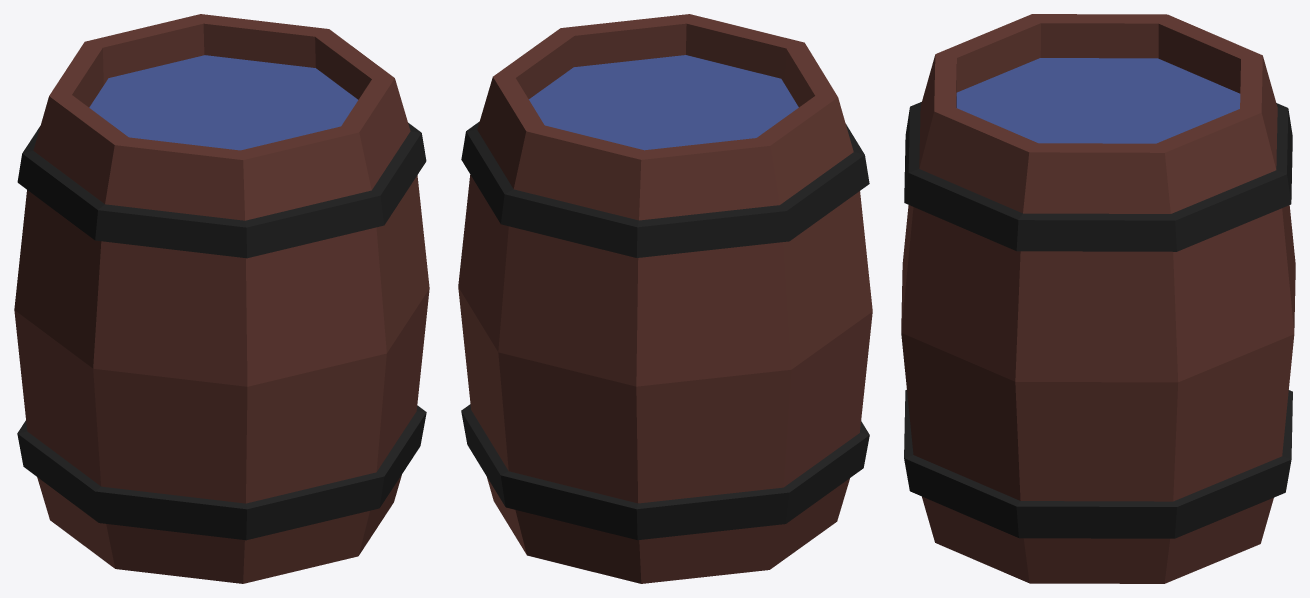
File: barrel_with_water.fbx
3 renders of one model, left to right at view 1: azimuth 30°, elevation 25°; view 2: azimuth 150°, elevation 25°; view 3: azimuth 270°, elevation 25°, orthographic.
Parts seen in each view (by area): view 1: barrel.001; view 2: barrel.001; view 3: barrel.001.
Part boxes in pixels (left/top/right/bottom): barrel.001: left=14, top=14, right=429, bottom=583; barrel.001: left=458, top=14, right=872, bottom=583; barrel.001: left=901, top=14, right=1295, bottom=583.
Bounding box in the file's own units: 24.38 × 29.42 × 24.38.
